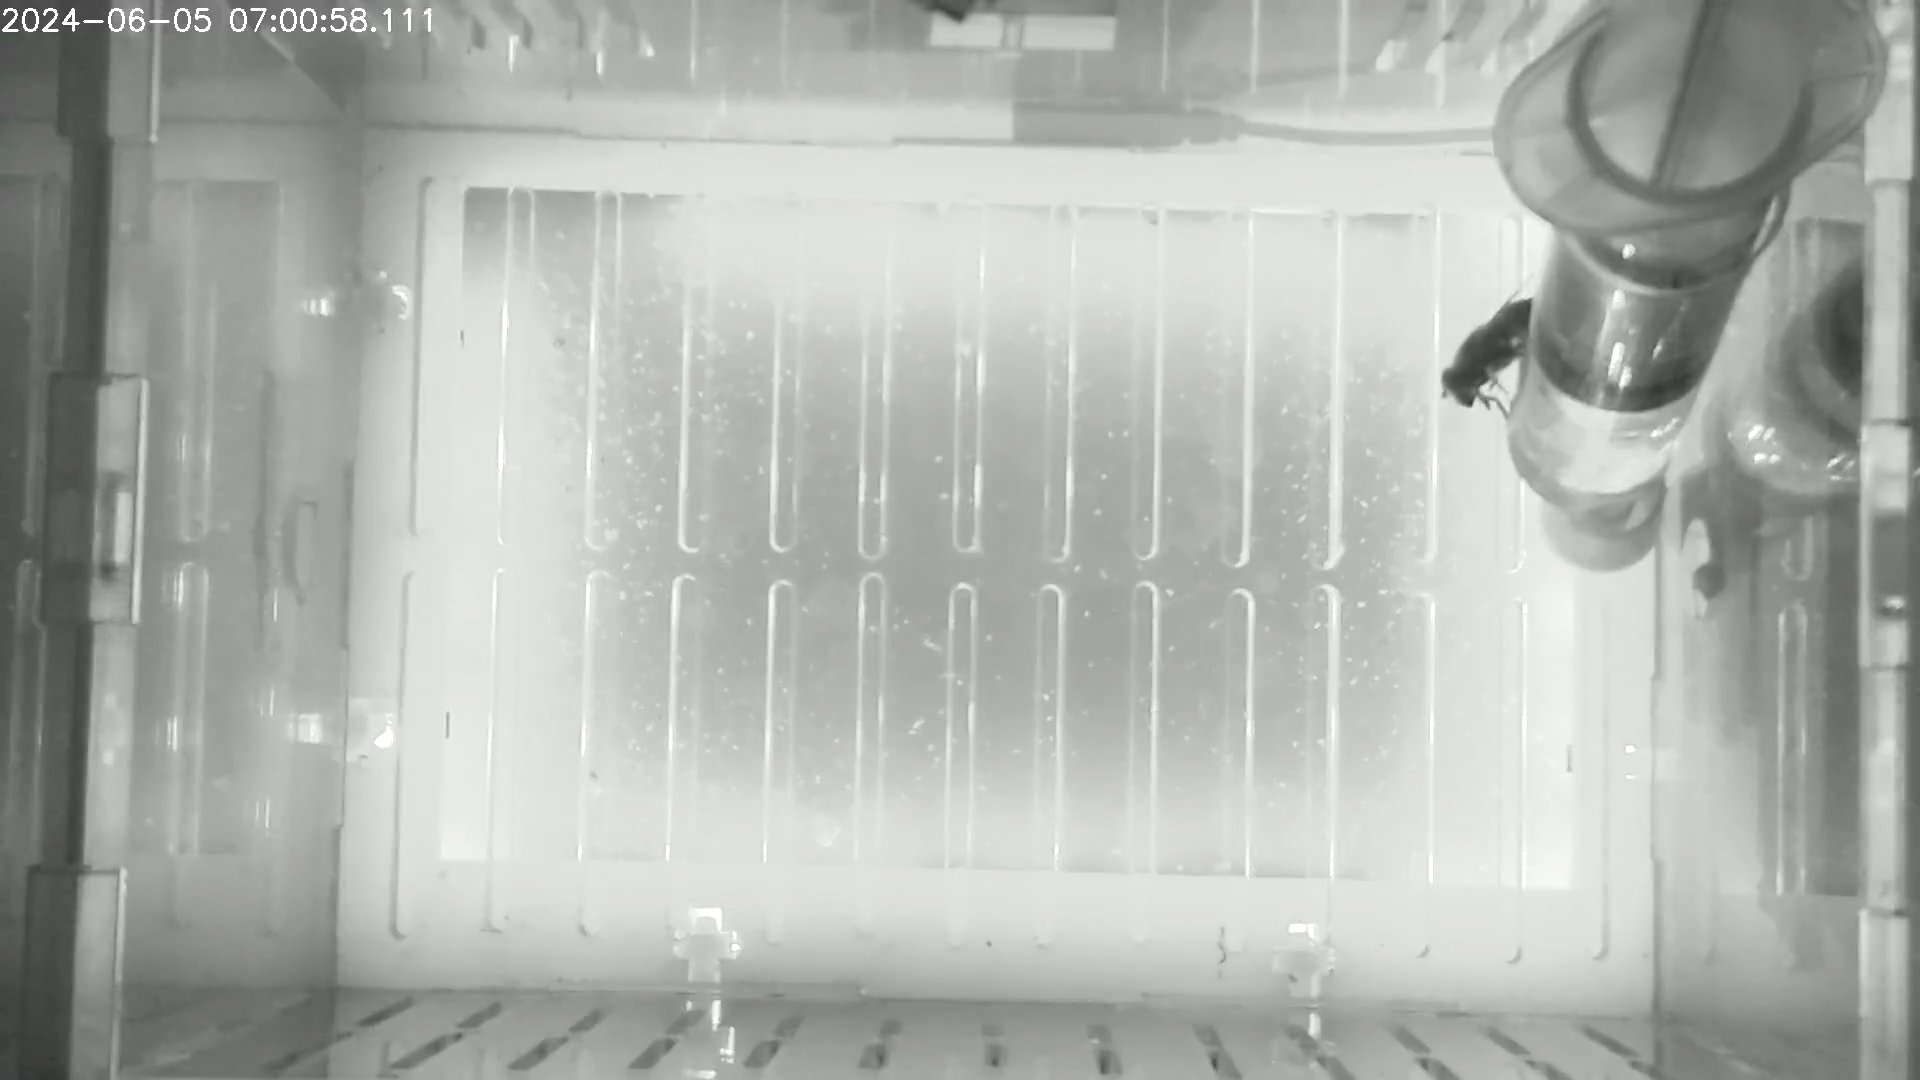bee: (1431, 269, 1540, 426)
feeder: (1503, 224, 1745, 520)
